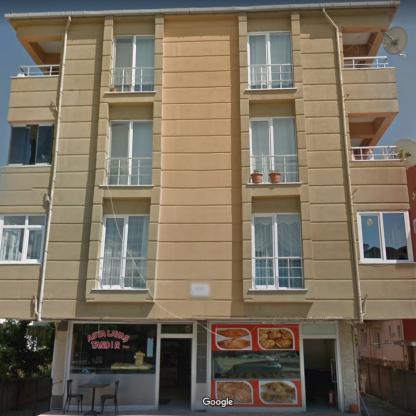window: (72, 321, 159, 405), (256, 214, 302, 288), (101, 218, 147, 288), (250, 118, 298, 179), (108, 119, 153, 184), (247, 30, 291, 89), (212, 350, 298, 380), (359, 214, 410, 260), (110, 38, 153, 92), (1, 216, 46, 260), (9, 125, 54, 164)
